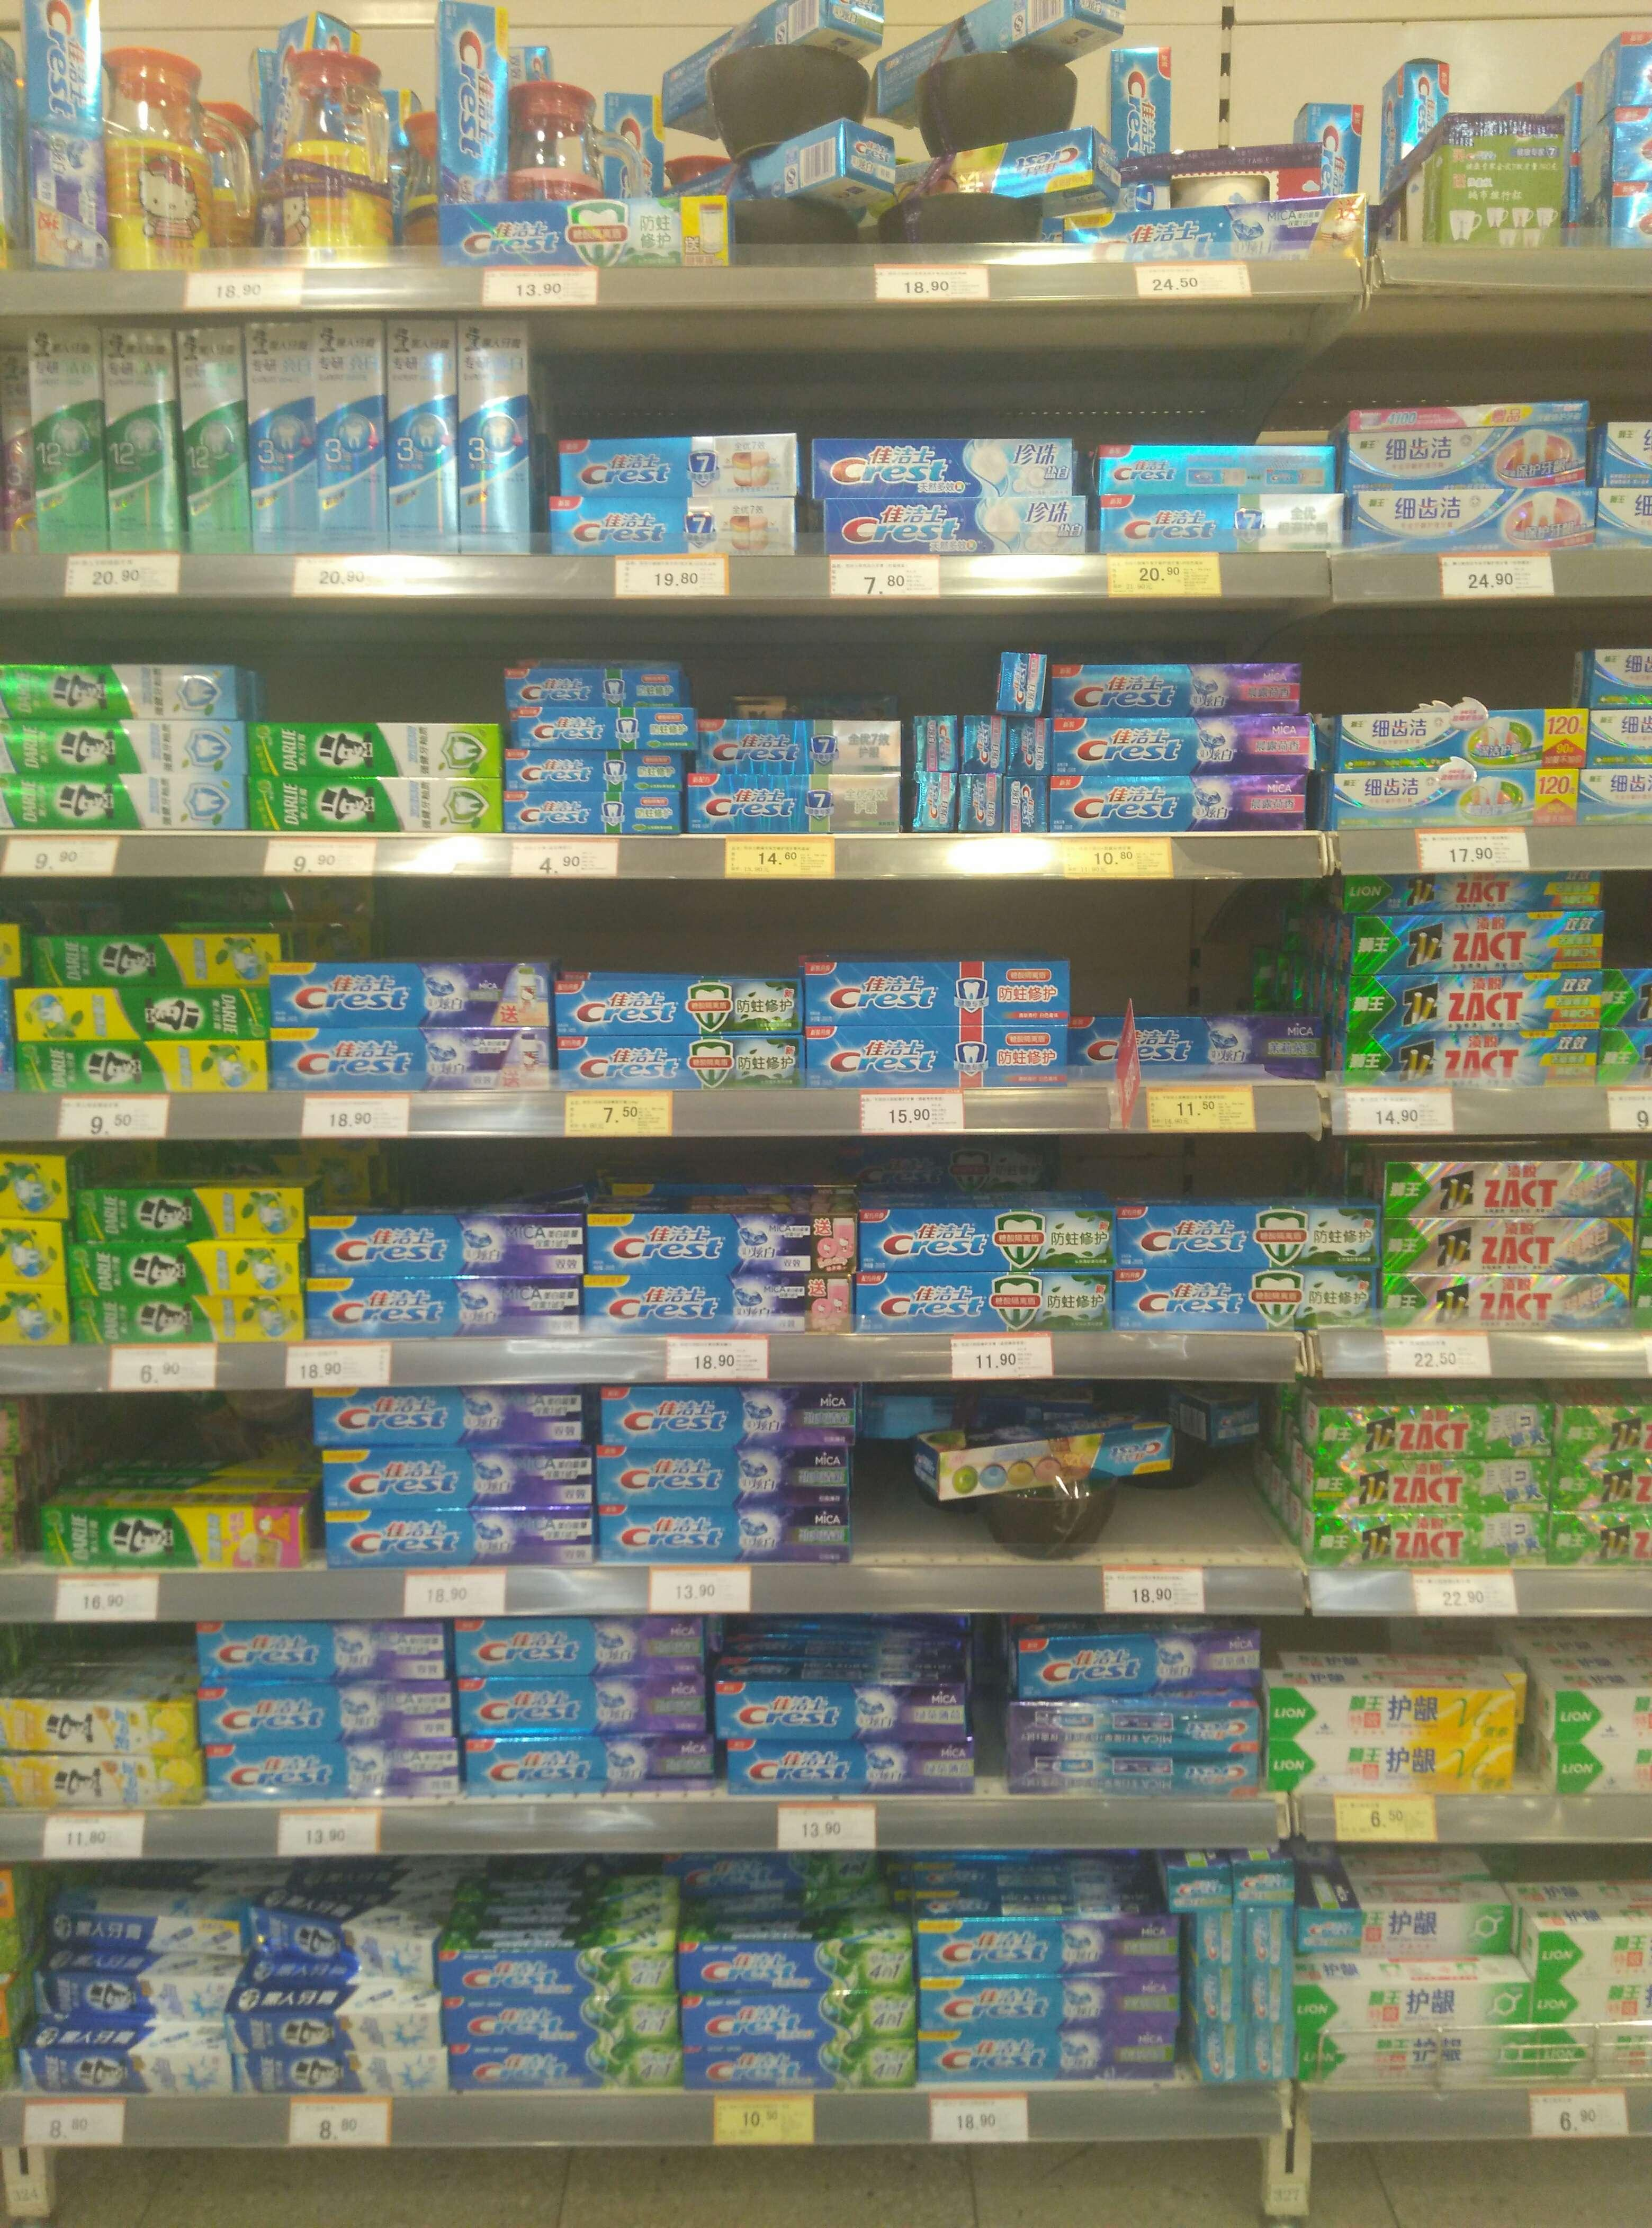misalignment: (906, 1426, 1196, 1567), (259, 1886, 446, 1987), (1010, 1629, 1272, 1687), (45, 1904, 253, 1966), (1168, 1853, 1308, 1917), (975, 637, 1050, 717)
